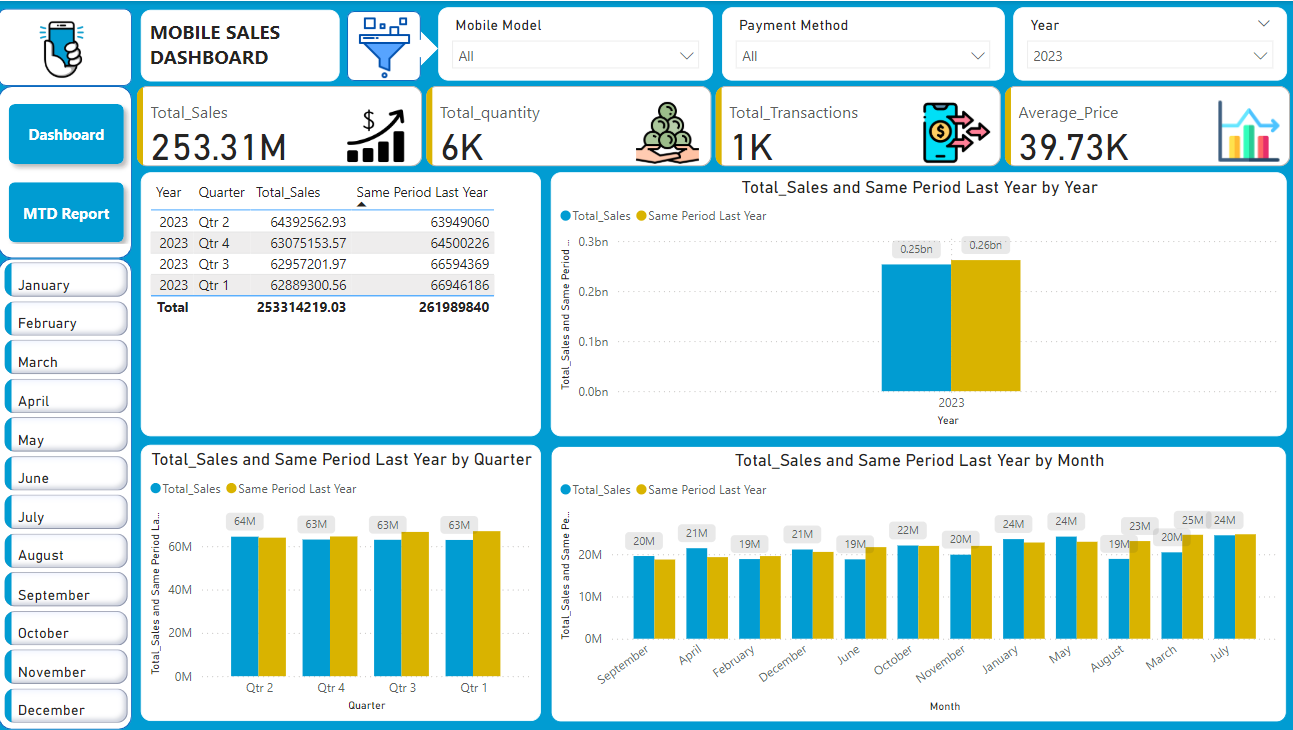

What the dashboard file says about the page in this screenshot:
{"tool":"powerbi","page":{"name":"Same Period Last Year ","canvas":[1280,720],"ordinal":2},"visuals":[{"type":"shape","box":[6.1,7.4,131.3,76.1],"z":0},{"type":"image","box":[0,6.2,136.2,82.5],"z":1000},{"type":"shape","box":[6.1,83.4,131.3,169.3],"z":2000},{"type":"cardVisual","fields":{"Data":["Sales_Data.Total_Sales","Sales_Data.Total_quantity","Sales_Data.Total_Transactions","Sales_Data.Average_Price"]},"box":[137.4,78.5,1142.3,89.6],"z":3000},{"type":"slicer","fields":{"Values":["Sales_Data.Mobile Model"]},"box":[438,6.1,269.9,72.4],"z":4000},{"type":"slicer","fields":{"Values":["Sales_Data.Payment Method"]},"box":[716.6,6.1,277.3,72.4],"z":5000},{"type":"slicer","fields":{"Values":["Custom_Calender.Date.Variation.Date Hierarchy.Year"]},"box":[1002.5,6.1,268.7,72.4],"z":6000},{"type":"shape","box":[348.8,10,72.5,68.8],"z":7000},{"type":"shape","box":[402.5,29.4,35.6,34.4],"z":8000},{"type":"image","box":[350,0,71.2,92.5],"z":9000},{"type":"textbox","box":[146.2,8.8,195,70],"z":10000},{"type":"shape","box":[6.2,252.5,131.2,462.5],"z":11000},{"type":"advancedSlicerVisual","fields":{"Values":["Custom_Calender.Date.Variation.Date Hierarchy.Month"]},"box":[7.4,251.5,131.3,463.8],"z":12000},{"type":"tableEx","fields":{"Values":["Custom_Calender.Date.Variation.Date Hierarchy.Year","Custom_Calender.Date.Variation.Date Hierarchy.Quarter","Sales_Data.Total_Sales","Sales_Data.Same Period Last Year"]},"box":[146,168.1,392.6,258.9],"z":13000},{"type":"clusteredColumnChart","fields":{"Category":["Custom_Calender.Date.Variation.Date Hierarchy.Year","Custom_Calender.Date.Variation.Date Hierarchy.Quarter"],"Y":["Sales_Data.Total_Sales","Sales_Data.Same Period Last Year"]},"box":[548.5,168.1,722.7,258.9],"z":14000},{"type":"clusteredColumnChart","fields":{"Y":["Sales_Data.Total_Sales","Sales_Data.Same Period Last Year"],"Category":["Custom_Calender.Date.Variation.Date Hierarchy.Year","Custom_Calender.Date.Variation.Date Hierarchy.Quarter","Custom_Calender.Date.Variation.Date Hierarchy.Month","Custom_Calender.Date.Variation.Date Hierarchy.Day"]},"box":[548.5,436.8,722.7,271.2],"z":15000},{"type":"clusteredColumnChart","fields":{"Category":["Custom_Calender.Date.Variation.Date Hierarchy.Year","Custom_Calender.Date.Variation.Date Hierarchy.Quarter"],"Y":["Sales_Data.Total_Sales","Sales_Data.Same Period Last Year"]},"box":[146,435.6,392.6,271.2],"z":16000},{"type":"pageNavigator","box":[7.4,92,131.3,146],"z":16001}]}

Visuals, with their boxes in screenshot pixels (x1, y1, x2, y2), scaled from the page's 1280x720 canvas onto the 1293x730 screenshot:
shape: [x1=6, y1=8, x2=139, y2=85]
image: [x1=0, y1=6, x2=138, y2=90]
shape: [x1=6, y1=85, x2=139, y2=256]
cardVisual - Sales_Data.Total_Sales x Sales_Data.Total_quantity: [x1=139, y1=80, x2=1292, y2=170]
slicer - Sales_Data.Mobile Model: [x1=442, y1=6, x2=715, y2=80]
slicer - Sales_Data.Payment Method: [x1=724, y1=6, x2=1004, y2=80]
slicer - Custom_Calender.Date.Variation.Date Hierarchy.Year: [x1=1013, y1=6, x2=1284, y2=80]
shape: [x1=352, y1=10, x2=426, y2=80]
shape: [x1=407, y1=30, x2=443, y2=65]
image: [x1=354, y1=0, x2=425, y2=94]
textbox: [x1=148, y1=9, x2=345, y2=80]
shape: [x1=6, y1=256, x2=139, y2=725]
advancedSlicerVisual - Custom_Calender.Date.Variation.Date Hierarchy.Month: [x1=7, y1=255, x2=140, y2=725]
tableEx - Custom_Calender.Date.Variation.Date Hierarchy.Year x Custom_Calender.Date.Variation.Date Hierarchy.Quarter: [x1=147, y1=170, x2=544, y2=433]
clusteredColumnChart - Custom_Calender.Date.Variation.Date Hierarchy.Year x Custom_Calender.Date.Variation.Date Hierarchy.Quarter: [x1=554, y1=170, x2=1284, y2=433]
clusteredColumnChart - Sales_Data.Total_Sales x Sales_Data.Same Period Last Year: [x1=554, y1=443, x2=1284, y2=718]
clusteredColumnChart - Custom_Calender.Date.Variation.Date Hierarchy.Year x Custom_Calender.Date.Variation.Date Hierarchy.Quarter: [x1=147, y1=442, x2=544, y2=717]
pageNavigator: [x1=7, y1=93, x2=140, y2=241]
